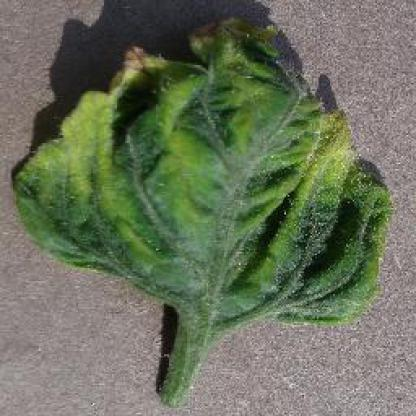bad leaf: (104, 48, 225, 116), (306, 103, 362, 212), (178, 13, 262, 61)
